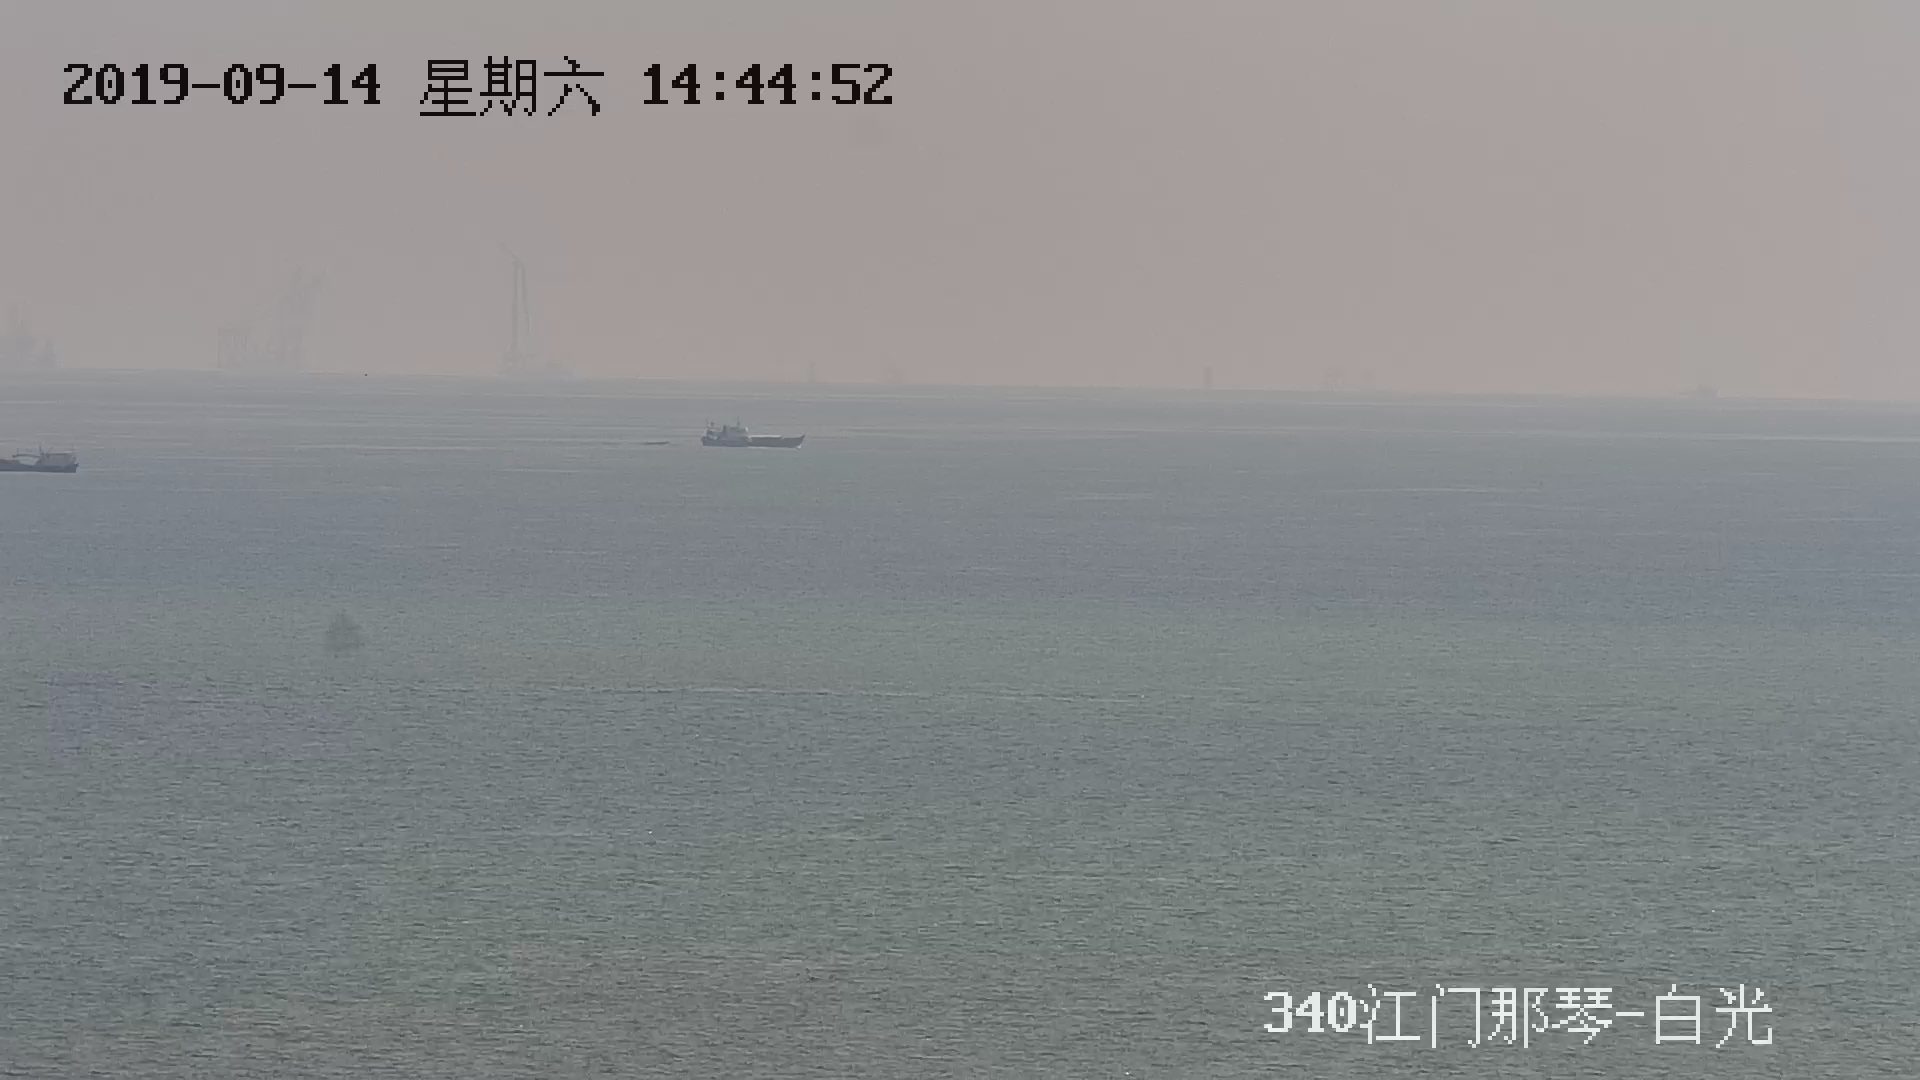ship: (700, 419, 807, 451), (3, 448, 79, 473)
